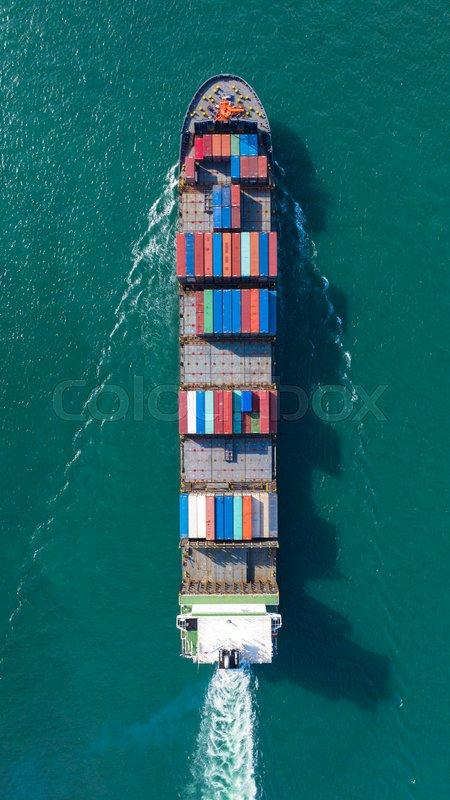Ship: (161, 60, 290, 675)
